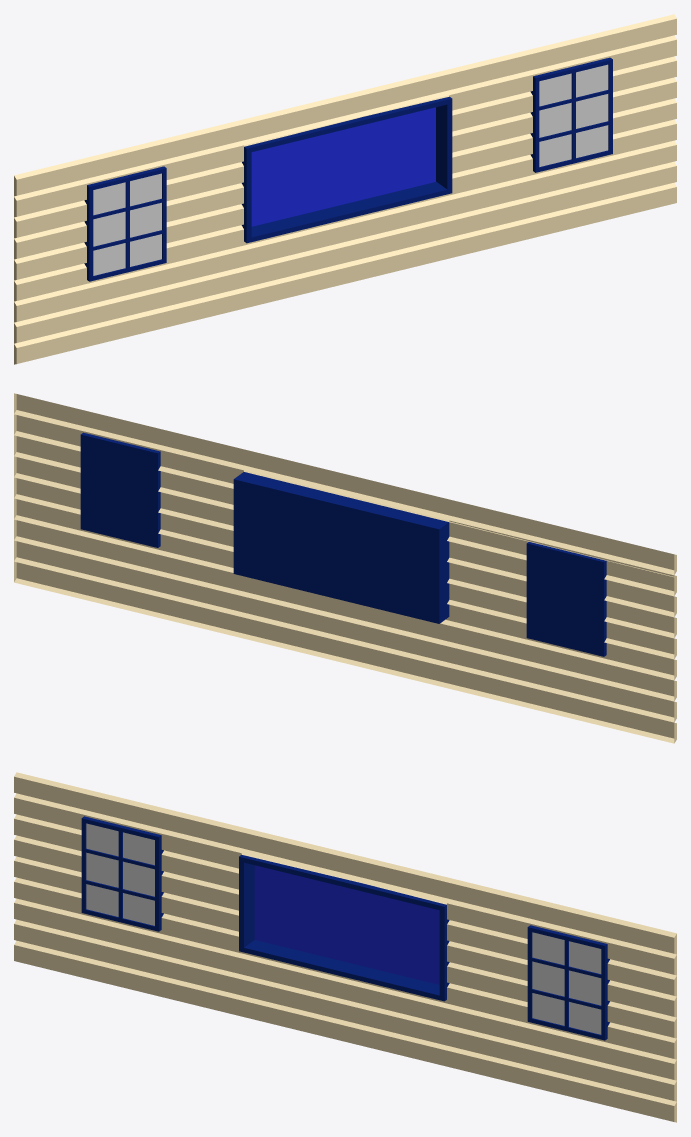
File: Room_V_4_FrontWall.fbx
3 views of the same model, one above another, from view 1: azimuth 30°, elevation 25°; view 2: azimuth 150°, elevation 25°; view 3: azimuth 330°, elevation 25° (orthographic).
Parts seen in each view (by area): view 1: 정면벽.002; view 2: 정면벽.002; view 3: 정면벽.002.
Boxes of the visible parts, <box> form: 정면벽.002: <box>14,14,676,364</box>; 정면벽.002: <box>14,393,676,743</box>; 정면벽.002: <box>14,772,676,1122</box>.
Bounding box in the file's own units: 730 × 200 × 24.4.
